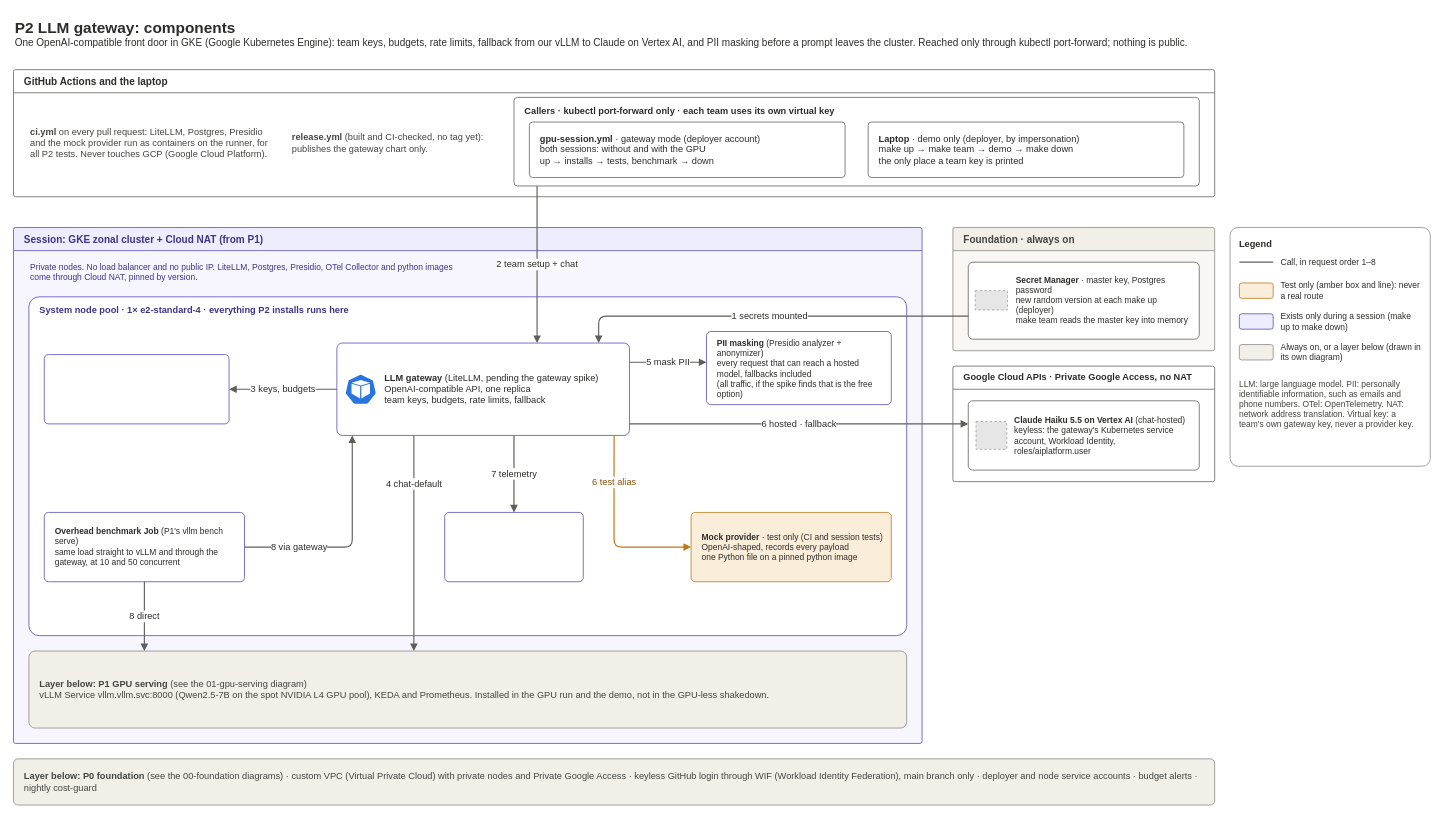
Image size: 1444x819. Some labels were removed from this diagram. Grey dashed boxes stand in for pictures. The centre of each missing label's shape, as x and y in pixels:
"OTel Collector (minimal) receives gateway telemetry P3 completes it" belongs at point 513,547.
"Postgres · one pod, no disk teams, keys, spend logs data lasts one session" belongs at point 136,389.
